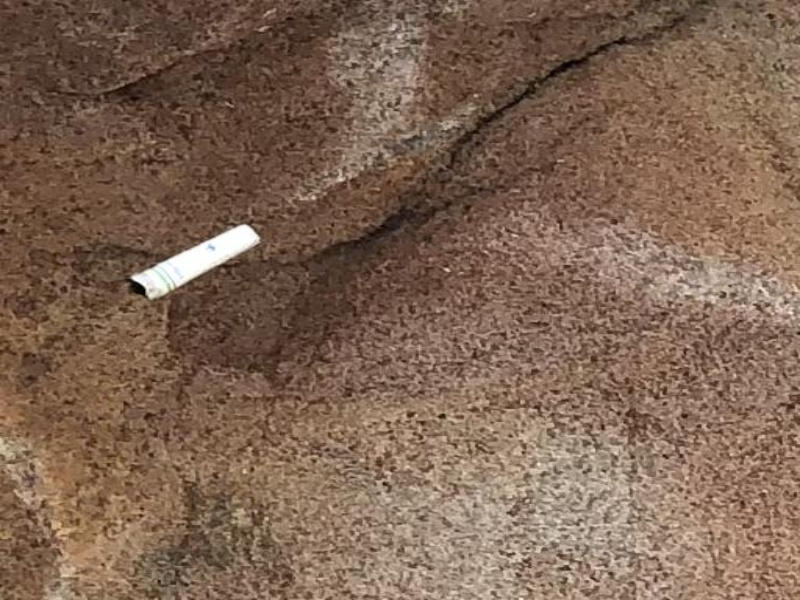cig: (118, 212, 270, 299)
